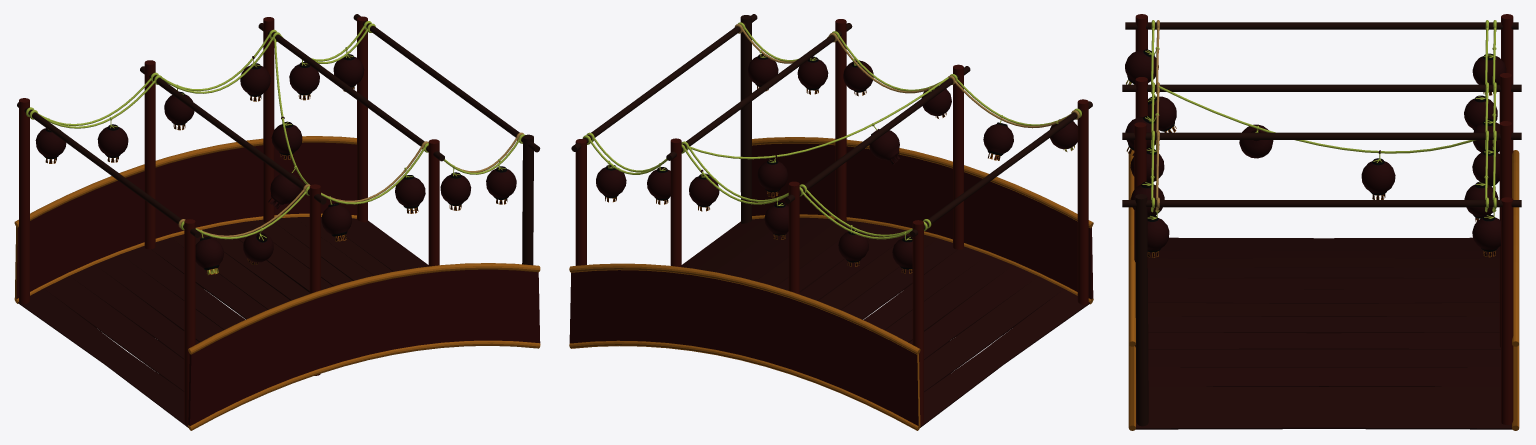
The picture shows the model from 3 angles, left to right: view 1: azimuth 30°, elevation 25°; view 2: azimuth 150°, elevation 25°; view 3: azimuth 270°, elevation 25°; orthographic projection. The views are drawn at different scales.
Parts seen in each view (by area): view 1: valla, puente2, Pinbolos, Line005, Line008, Line011, Line014, Line003, Line012, Line009, Line010, Line013 (+20 smaller); view 2: valla, puente2, Pinbolos, Line003, Line009, Line012, Line029, Line005, Line011, Line014, Line010, Line013 (+21 smaller); view 3: puente2, Pinbolos, Line012, Line013, Line010, Line014, Line004, Line011, Sphere025, Sphere024, Line009, Line027 (+20 smaller).
Boxes of the visible parts, x1,y1,x2,y2 form: valla: (16, 142, 540, 425); puente2: (18, 66, 428, 427); Pinbolos: (14, 136, 540, 430); Line005: (19, 98, 29, 304); Line008: (144, 60, 155, 249); Line011: (263, 17, 274, 222); Line014: (357, 16, 367, 222); Line003: (184, 219, 195, 425); Line012: (522, 134, 533, 265); Line009: (428, 139, 439, 266); Line010: (258, 23, 444, 161); Line013: (353, 14, 540, 152); valla: (569, 143, 1093, 425); puente2: (681, 66, 1089, 427); Pinbolos: (569, 137, 1093, 430); Line003: (1077, 99, 1088, 304); Line009: (835, 19, 846, 223); Line012: (740, 15, 751, 223); Line029: (953, 64, 963, 249); Line005: (912, 220, 923, 425); Line011: (670, 138, 681, 266); Line014: (575, 139, 586, 265); Line010: (666, 23, 852, 160); Line013: (571, 14, 757, 151); puente2: (1122, 84, 1521, 429); Pinbolos: (1128, 150, 1519, 430); Line012: (1135, 194, 1148, 426); Line013: (1122, 200, 1521, 207); Line010: (1122, 132, 1521, 139); Line014: (1501, 197, 1513, 424); Line004: (1125, 22, 1518, 29); Line011: (1499, 121, 1511, 347); Sphere025: (1361, 150, 1395, 199); Sphere024: (1472, 209, 1500, 257); Line009: (1134, 122, 1146, 347); Line027: (1158, 86, 1475, 153).
Size of the model in its own units: 908 by 569 by 812.
